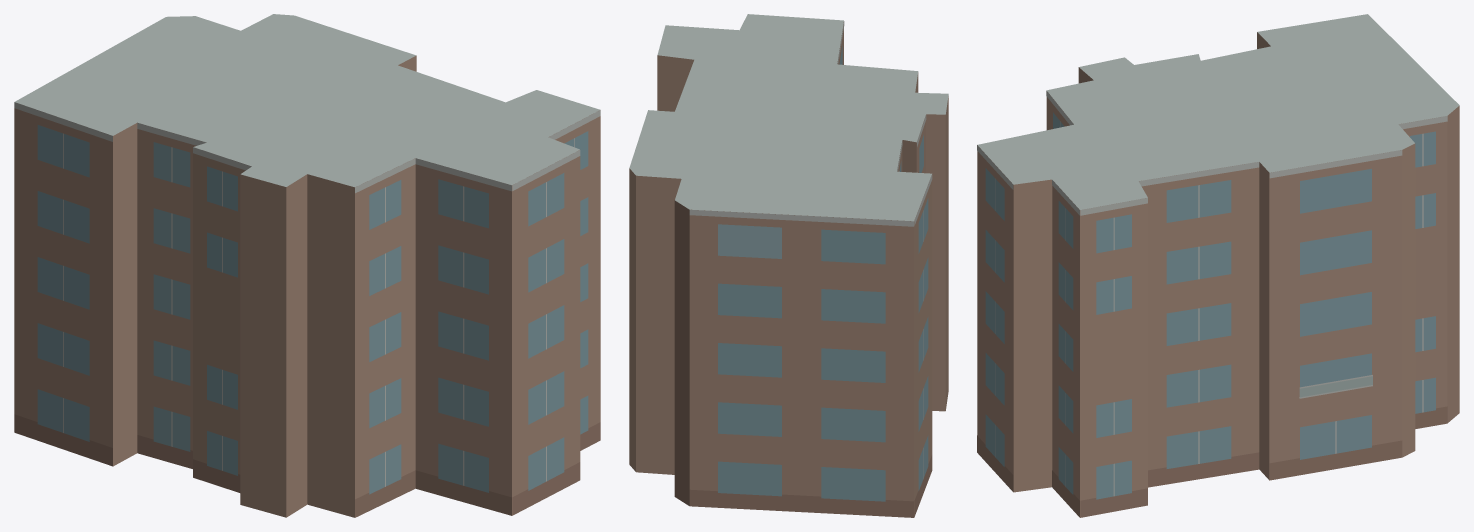
Rendered from survey-upis-32680815.glb.
3 renders of one model, left to right at view 1: azimuth 30°, elevation 25°; view 2: azimuth 150°, elevation 25°; view 3: azimuth 270°, elevation 25°, orthographic. The views are drawn at different scales.
Visible parts, largest first — view 1: survey-upis-32680815.tmp; view 2: survey-upis-32680815.tmp; view 3: survey-upis-32680815.tmp.
Boxes of the visible parts, x1,y1,x2,y2 form: survey-upis-32680815.tmp: (14, 14, 600, 517); survey-upis-32680815.tmp: (629, 14, 948, 517); survey-upis-32680815.tmp: (977, 14, 1459, 517).
Bounding box in the file's own units: 17.91 × 13.1 × 18.62.
